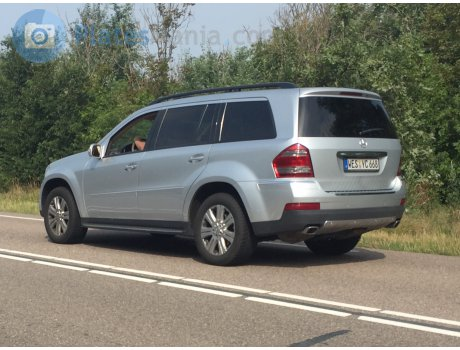License Plates: (345, 156, 384, 166)
